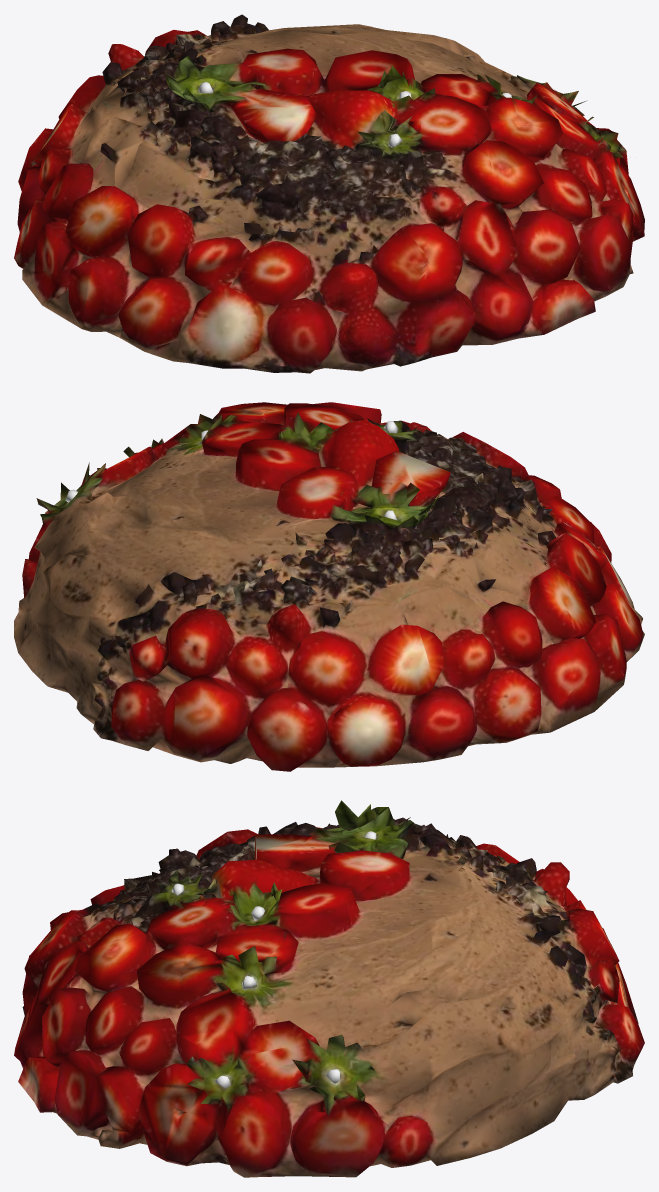
The model's file is strawberry_chocolate_cake.glb.
3 renders of one model, top to bottom at view 1: azimuth 30°, elevation 25°; view 2: azimuth 150°, elevation 25°; view 3: azimuth 270°, elevation 25°, orthographic. The views are drawn at different scales.
Visible parts, largest first — view 1: strawberry_chocolate_cake; view 2: strawberry_chocolate_cake; view 3: strawberry_chocolate_cake.
Boxes of the visible parts, left/top/right/bottom form: strawberry_chocolate_cake: left=14, top=14, right=644, bottom=373; strawberry_chocolate_cake: left=14, top=402, right=644, bottom=771; strawberry_chocolate_cake: left=14, top=800, right=644, bottom=1177.
Bounding box in the file's own units: 0.2435 × 0.0771 × 0.2402.
Materials: 1 (1 with a texture image).
